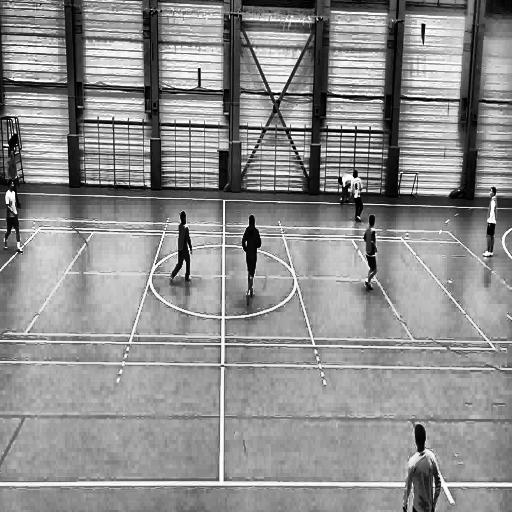ball: (338, 193, 344, 205)
player: (402, 422, 442, 512), (168, 210, 194, 290), (241, 217, 261, 309), (2, 184, 24, 254), (362, 214, 379, 294), (480, 185, 497, 261), (348, 168, 364, 228), (7, 145, 21, 208), (339, 169, 353, 206)
